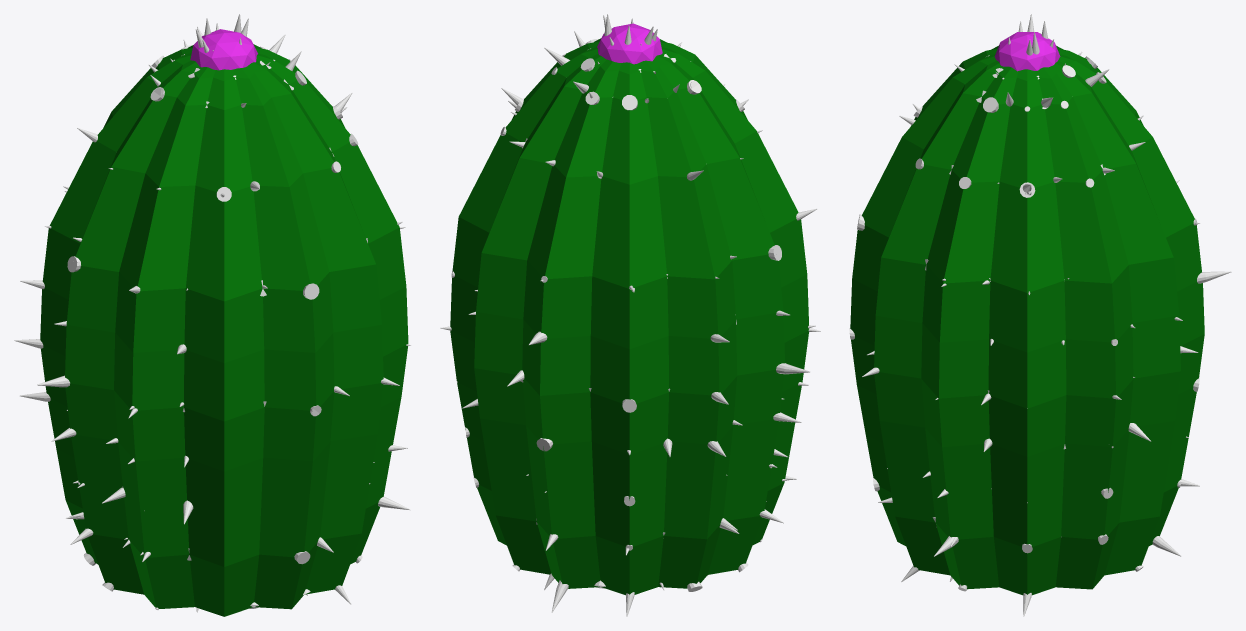
The model's file is Kaktus01 (1).fbx.
3 renders of one model, left to right at view 1: azimuth 30°, elevation 25°; view 2: azimuth 150°, elevation 25°; view 3: azimuth 270°, elevation 25°, orthographic. The views are drawn at different scales.
Parts seen in each view (by area): view 1: Cactus1.001, Cactus1; view 2: Cactus1.001, Cactus1; view 3: Cactus1.001, Cactus1.
Boxes of the visible parts, x1,y1,x2,y2 form: Cactus1.001: (40, 44, 408, 616); Cactus1: (190, 29, 257, 70); Cactus1.001: (450, 38, 809, 595); Cactus1: (597, 23, 662, 64); Cactus1.001: (850, 45, 1204, 595); Cactus1: (994, 32, 1060, 71).
Size of the model in its own units: 3.09 by 4.73 by 3.07.
